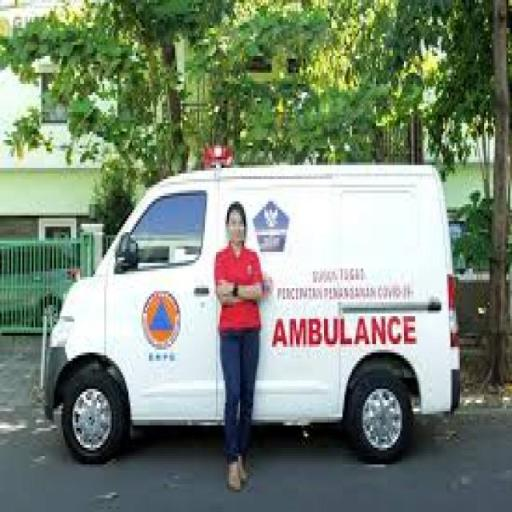Police car: (41, 162, 460, 459)
